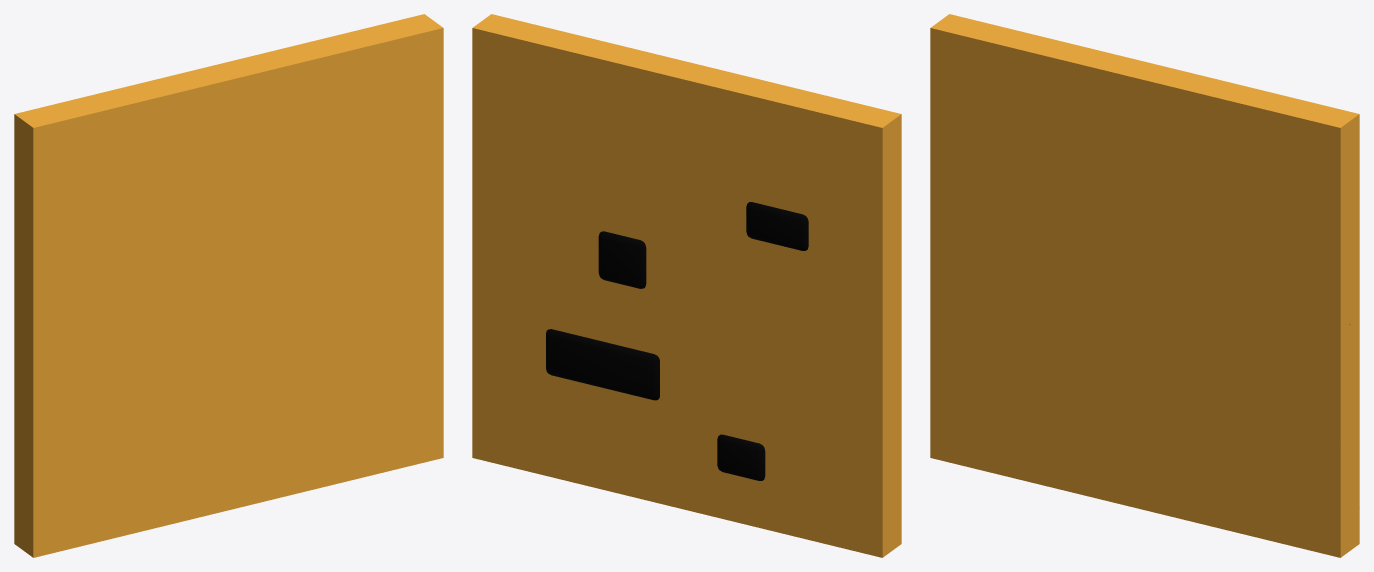
File: Wall 4.fbx
The picture shows the model from 3 angles, left to right: view 1: azimuth 30°, elevation 25°; view 2: azimuth 150°, elevation 25°; view 3: azimuth 330°, elevation 25°; orthographic projection.
Parts seen in each view (by area): view 1: Wall 4; view 2: Wall 4; view 3: Wall 4.
Boxes of the visible parts, left/top/right/bottom form: Wall 4: left=14, top=14, right=443, bottom=557; Wall 4: left=472, top=14, right=901, bottom=557; Wall 4: left=930, top=14, right=1359, bottom=557.
Bounding box in the file's own units: 249 × 249 × 22.33.
1 material, 1 textured.
